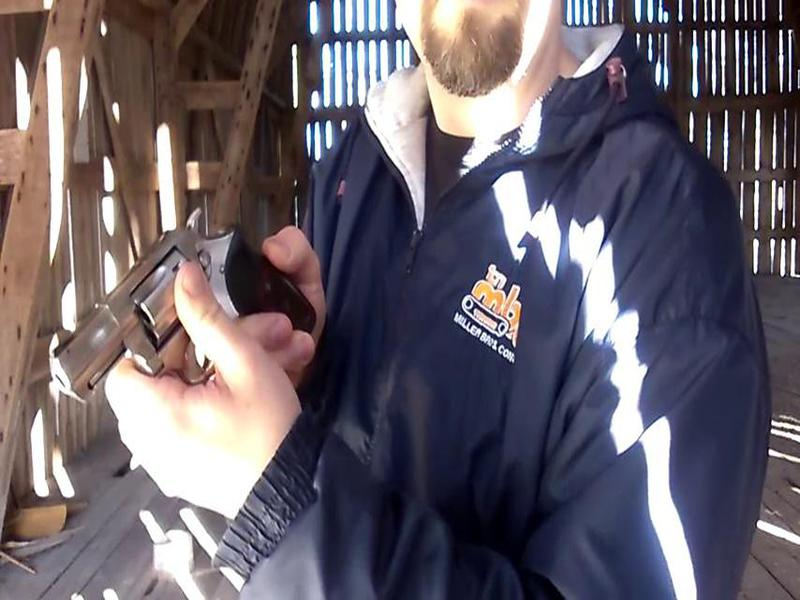Revolver: (34, 199, 332, 401)
